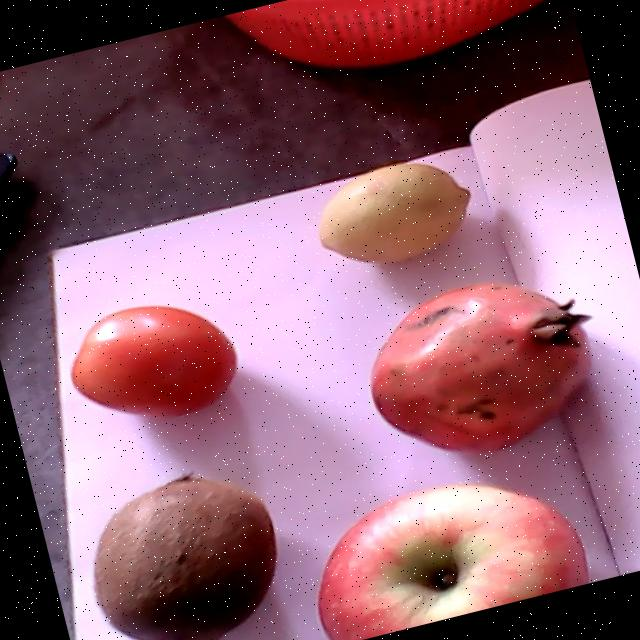apple: (316, 479, 591, 640)
kiwi: (92, 472, 278, 640)
lemon: (319, 161, 470, 263)
pomegranate: (369, 281, 595, 451)
tomato: (69, 305, 237, 418)
